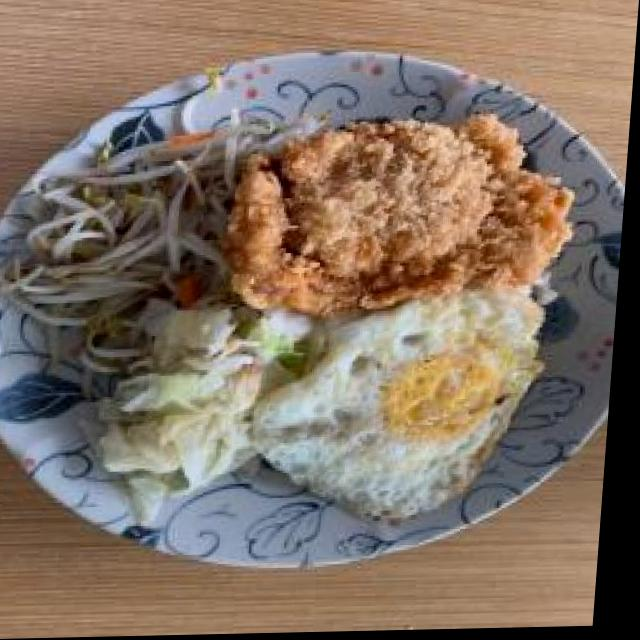chinese_cabbage: (92, 291, 299, 523)
fried_chicken: (226, 110, 588, 321)
fried_eggs: (254, 300, 557, 528)
mung_bean_sprouts: (17, 138, 257, 315)
